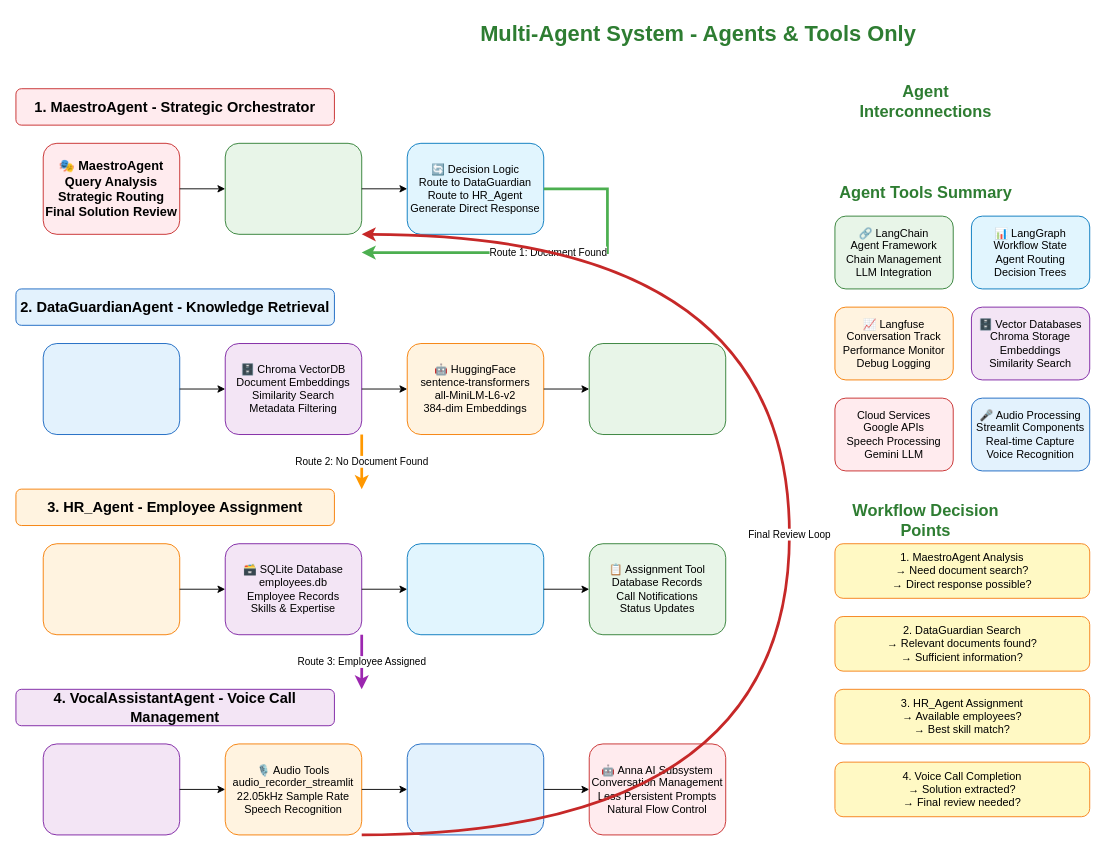
Image size: 1106x852. Some labels were removed from this diagram. Each missing label, with the centre of its shape:
"Google Cloud APIs Speech-to-Text Text-to-Speech Gemini LLM" goes at pixel 475 789.
"⚙️ Custom Algorithm Expertise Scoring Role Compatibility Priority Ranking" goes at pixel 475 589.
"🎤 VocalAssistantAgent Call Orchestration Anna AI Integration Solution Extraction" goes at pixel 111 789.
"👥 HR_Agent Employee Matching Skill Analysis Availability Check" goes at pixel 111 589.
"🔍 DataGuardianAgent Document Search RAG Pipeline Context Retrieval" goes at pixel 111 389.
"🔗 LangChain ChatGoogleGenerativeAI Gemini-1.5-Flash Model Prompt Engineering" goes at pixel 293 188.
"🔗 LangChain RAG Document Chunking Context Assembly Response Generation" goes at pixel 657 389.
